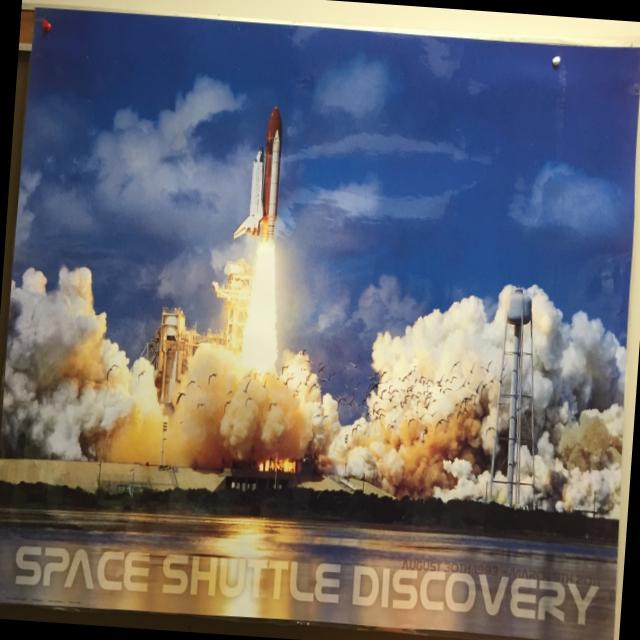rocket: (226, 99, 296, 384)
